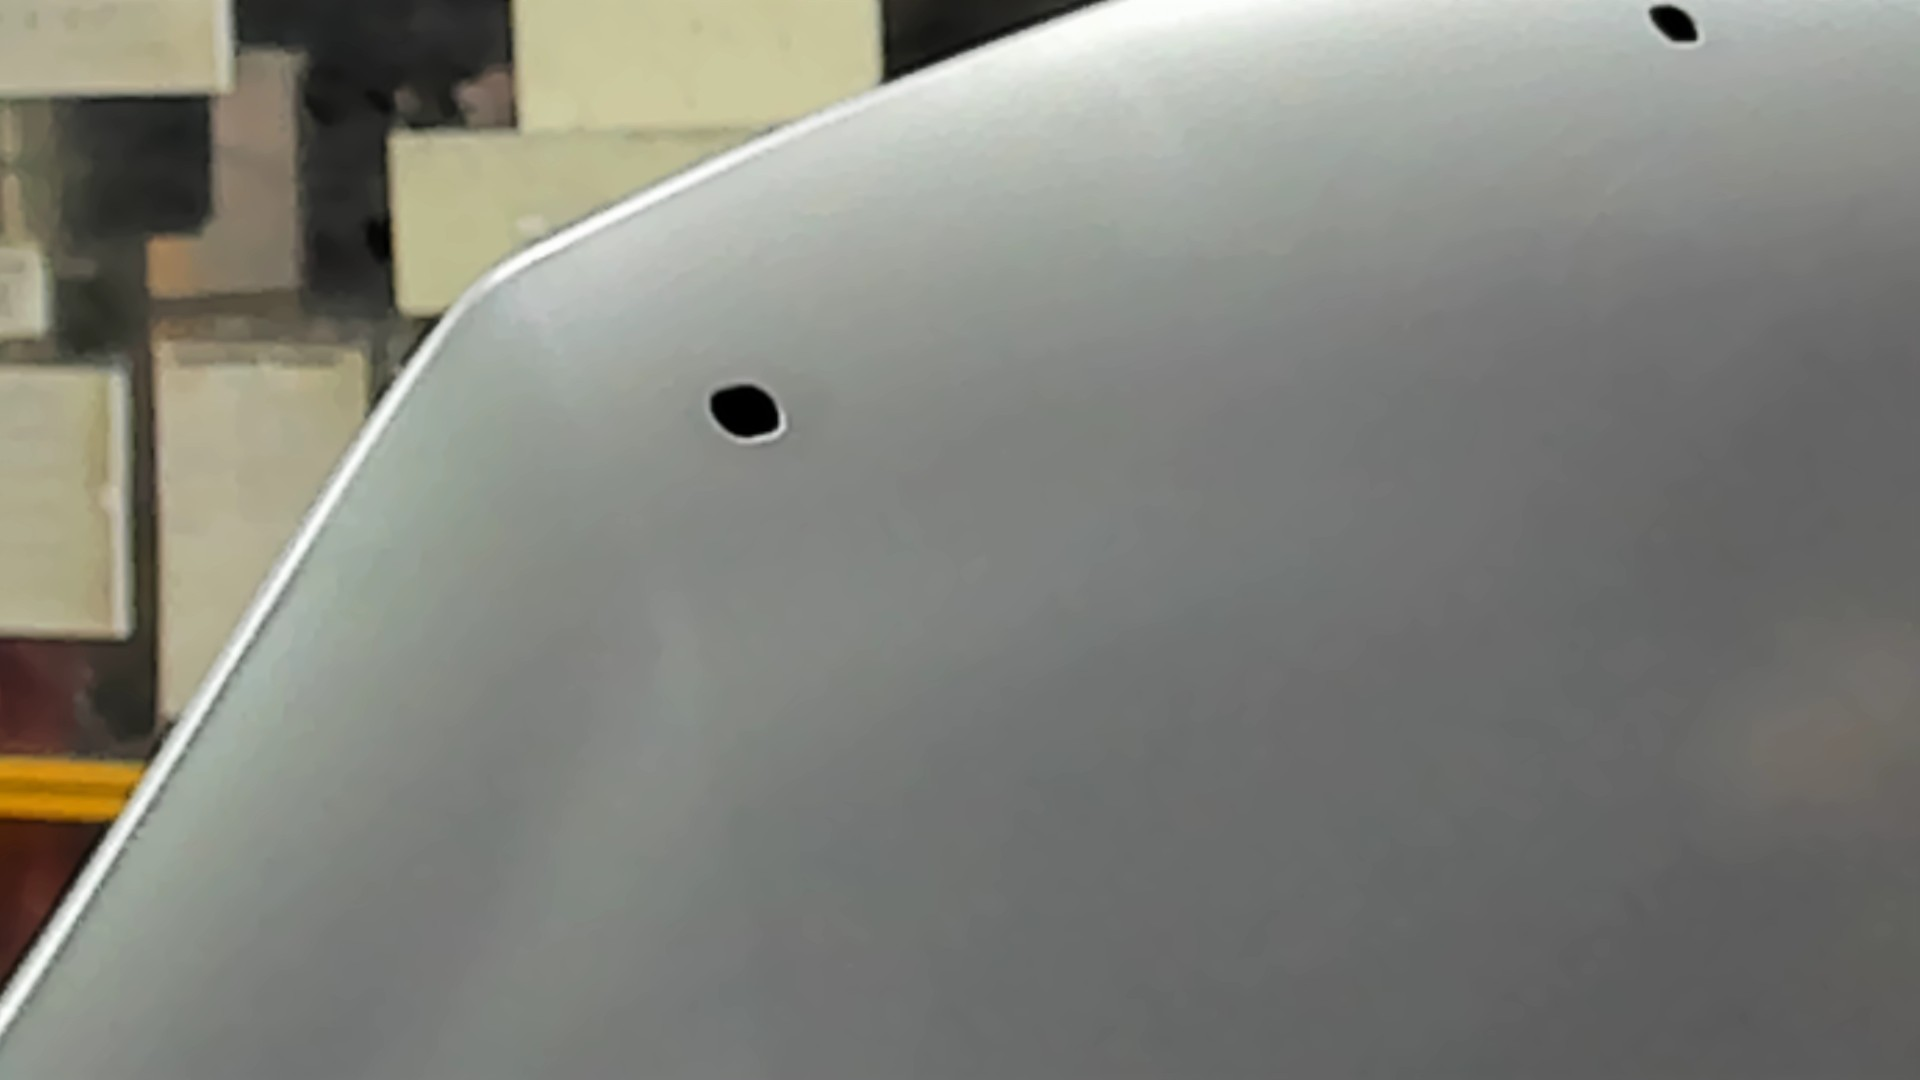amorfo: (702, 373, 793, 454), (1640, 1, 1709, 55)
capo: (856, 125, 1920, 1080)
